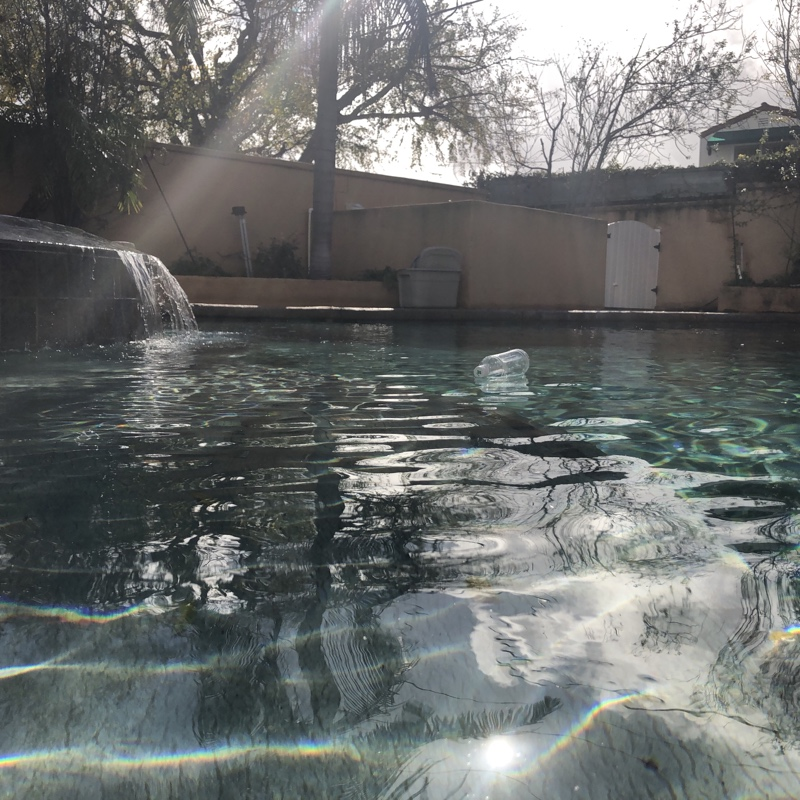Plastic Bottle: (471, 344, 531, 387)
